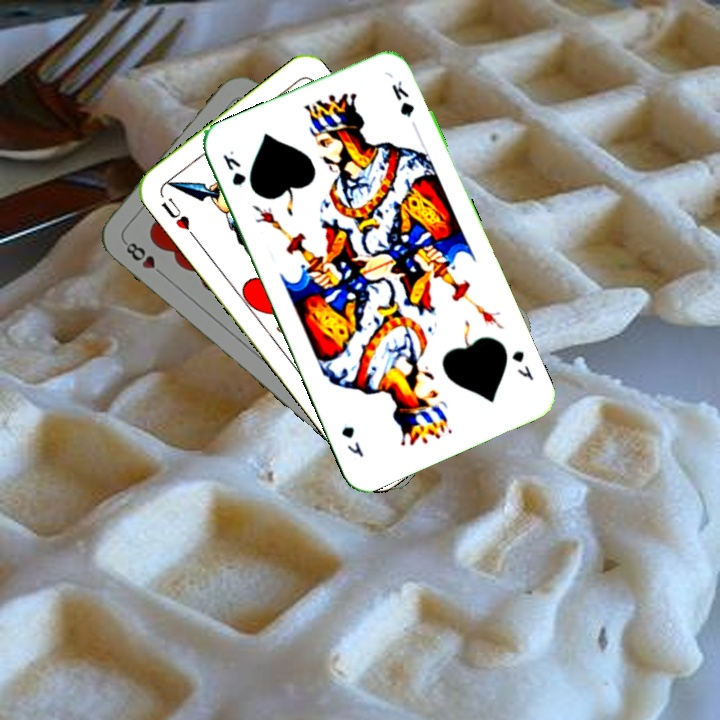GK: (218, 146, 249, 191), (507, 346, 537, 383)
H8: (119, 237, 168, 280)
HU: (157, 193, 199, 241)
